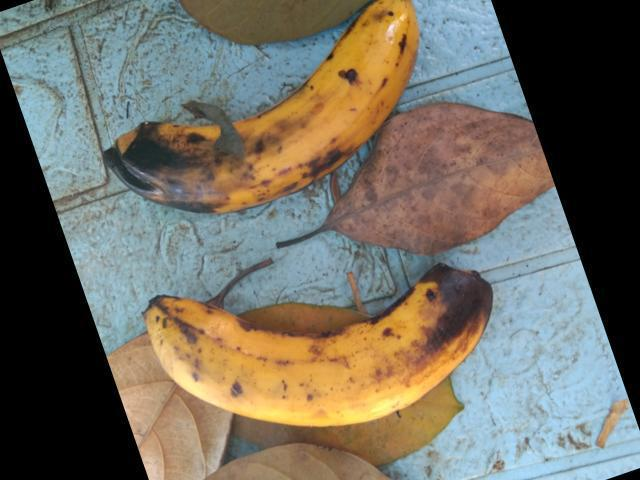overripe: (132, 282, 412, 455), (232, 0, 462, 204)
rotten: (93, 93, 279, 237), (371, 243, 520, 385)
